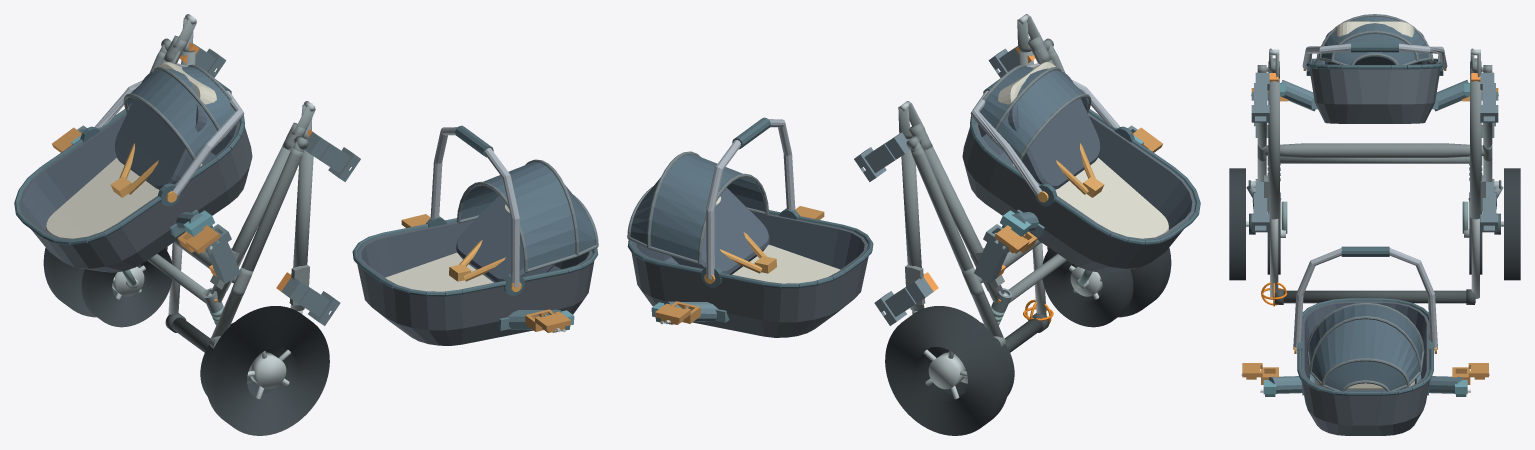
The model's file is D04_w650_state3_wheel_M.glb.
3 renders of one model, left to right at view 1: azimuth 30°, elevation 25°; view 2: azimuth 150°, elevation 25°; view 3: azimuth 270°, elevation 25°, orthographic. The views are drawn at different scales.
Parts seen in each view (by area): view 1: D04_Upper, D04_Lower, RL_tire.011, FR_tire.011, V46_rear_leg_-1.011, RR_tire.011, main_lower_-1.012, main_upper_-1.012, Universal_Cabin_Receiver_H_-1, Universal_Cabin_Receiver_M_-1, Universal_Cabin_Receiver_L_-1, RL_sealed_hub.011 (+10 smaller); view 2: D04_Upper, D04_Lower, RR_tire.011, FL_tire.011, V46_rear_leg_1.011, RL_tire.011, main_lower_1.012, main_upper_1.012, Universal_Cabin_Receiver_H_1, Universal_Cabin_Receiver_M_1, Universal_Cabin_Receiver_L_1, RR_sealed_hub.011 (+10 smaller); view 3: D04_Upper, D04_Lower, V46_rearbar.011, round_handle.013, RL_tire.011, RR_tire.011, main_upper_1.012, main_upper_-1.012, D04_Upper_Mount_H, D04_Lower_Mount_L, front_fixed_round_tube.011, Universal_Cabin_Receiver_M_-1 (+11 smaller).
Boxes of the visible parts, bbox=[...] form: D04_Upper: bbox=[352, 125, 598, 345]; D04_Lower: bbox=[14, 62, 252, 272]; RL_tire.011: bbox=[205, 306, 329, 435]; FR_tire.011: bbox=[81, 248, 172, 327]; V46_rear_leg_-1.011: bbox=[212, 148, 303, 337]; RR_tire.011: bbox=[43, 247, 167, 317]; main_lower_-1.012: bbox=[210, 144, 294, 302]; main_upper_-1.012: bbox=[290, 139, 313, 310]; Universal_Cabin_Receiver_H_-1: bbox=[281, 277, 340, 325]; Universal_Cabin_Receiver_M_-1: bbox=[304, 132, 360, 181]; Universal_Cabin_Receiver_L_-1: bbox=[205, 224, 240, 283]; RL_sealed_hub.011: bbox=[249, 352, 286, 389]; D04_Upper: bbox=[627, 117, 873, 337]; D04_Lower: bbox=[962, 62, 1200, 272]; RR_tire.011: bbox=[885, 306, 1009, 435]; FL_tire.011: bbox=[1042, 248, 1133, 327]; V46_rear_leg_1.011: bbox=[911, 148, 1002, 337]; RL_tire.011: bbox=[1047, 247, 1171, 317]; main_lower_1.012: bbox=[920, 144, 1004, 302]; main_upper_1.012: bbox=[901, 139, 924, 310]; Universal_Cabin_Receiver_H_1: bbox=[874, 277, 933, 325]; Universal_Cabin_Receiver_M_1: bbox=[854, 132, 910, 181]; Universal_Cabin_Receiver_L_1: bbox=[974, 224, 1009, 283]; RR_sealed_hub.011: bbox=[928, 352, 965, 389]; D04_Upper: bbox=[1293, 246, 1437, 435]; D04_Lower: bbox=[1302, 14, 1447, 123]; V46_rearbar.011: bbox=[1265, 143, 1484, 157]; round_handle.013: bbox=[1283, 290, 1475, 303]; RL_tire.011: bbox=[1229, 168, 1245, 280]; RR_tire.011: bbox=[1504, 168, 1520, 280]; main_upper_1.012: bbox=[1470, 78, 1481, 219]; main_upper_-1.012: bbox=[1268, 78, 1279, 219]; D04_Upper_Mount_H: bbox=[1260, 374, 1470, 396]; D04_Lower_Mount_L: bbox=[1280, 80, 1469, 111]; front_fixed_round_tube.011: bbox=[1280, 156, 1469, 163]; Universal_Cabin_Receiver_M_-1: bbox=[1251, 72, 1269, 122].
Size of the model in its own units: 1.42 by 0.7843 by 0.781.
